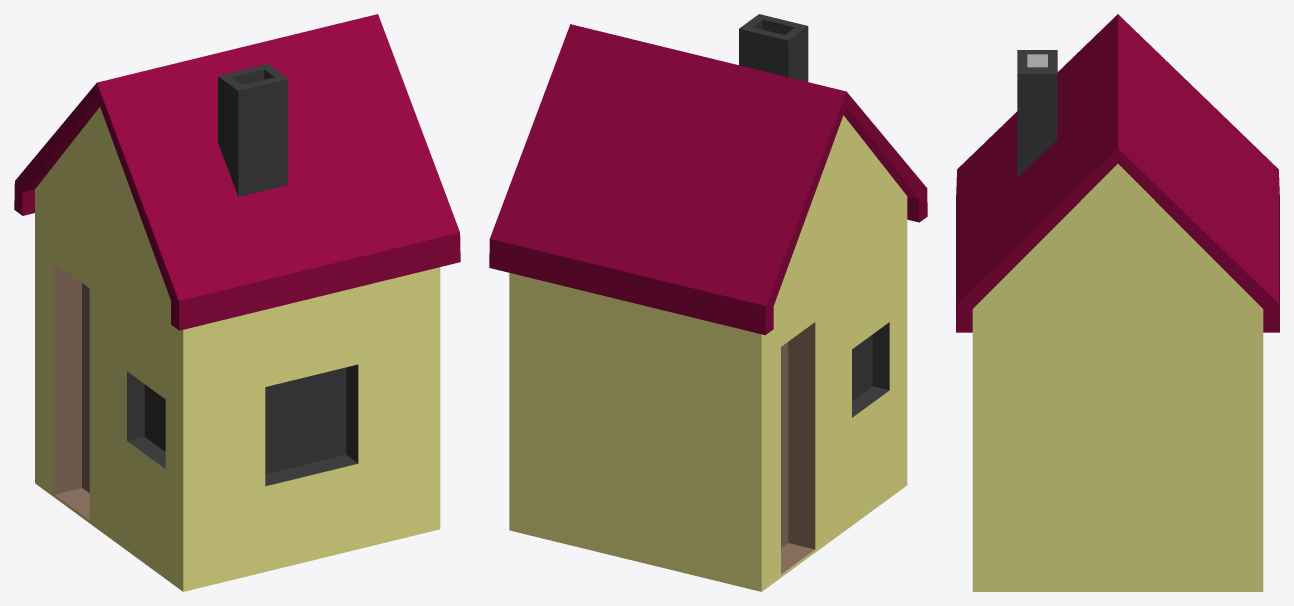
Rendered from House.fbx.
The picture shows the model from 3 angles, left to right: view 1: azimuth 30°, elevation 25°; view 2: azimuth 150°, elevation 25°; view 3: azimuth 270°, elevation 25°; orthographic projection.
Parts seen in each view (by area): view 1: Plane; view 2: Plane; view 3: Plane.
Boxes of the visible parts, x1=… form: Plane: x1=14, y1=14, x2=460, y2=591; Plane: x1=489, y1=14, x2=927, y2=591; Plane: x1=956, y1=14, x2=1279, y2=591.
Bounding box in the file's own units: 2.19 × 3.46 × 2.23.
